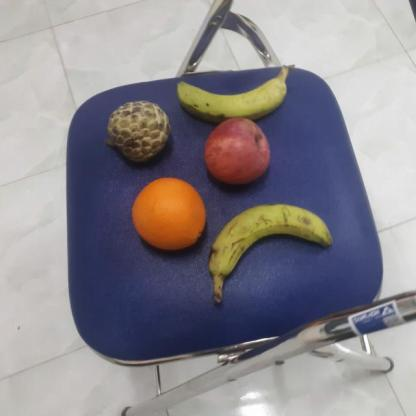annona: (102, 97, 174, 162)
apple: (200, 117, 274, 185)
banana: (208, 201, 334, 279), (176, 65, 293, 121)
orange: (128, 177, 210, 251)
